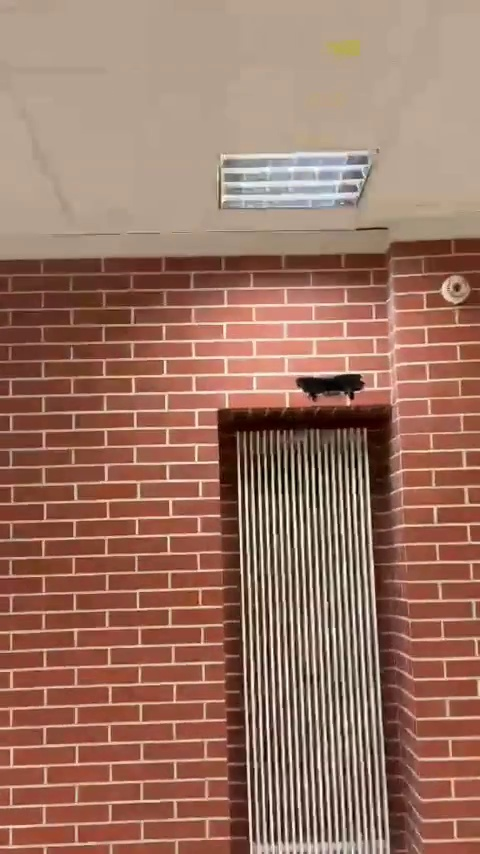drone: (300, 367, 364, 402)
